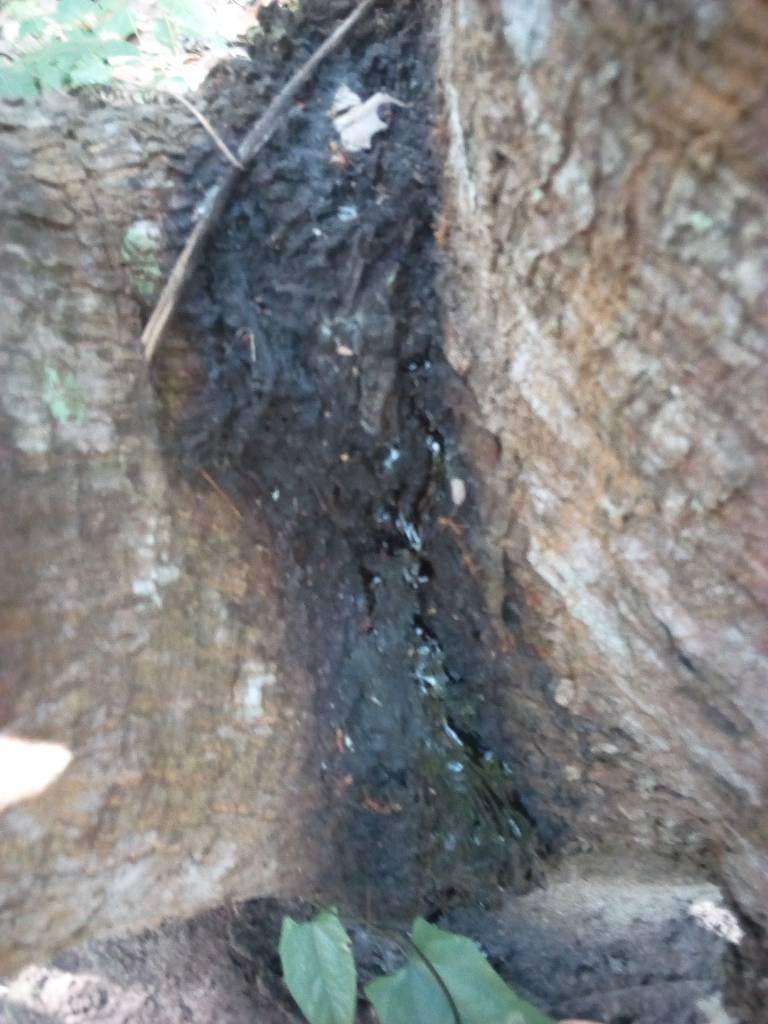Gommose: (204, 117, 529, 838)
